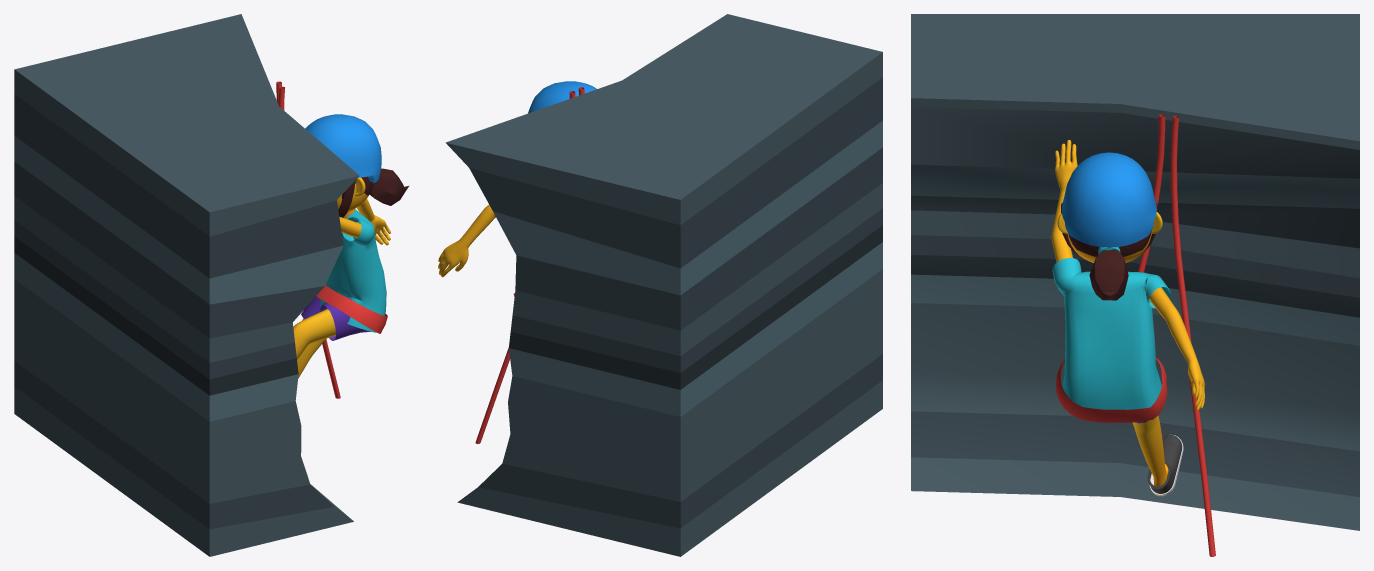
The model's file is woman_climbing.fbx.
3 views of the same model, side by side, from view 1: azimuth 30°, elevation 25°; view 2: azimuth 150°, elevation 25°; view 3: azimuth 270°, elevation 25° (orthographic). The views are drawn at different scales.
Visible parts, largest first — view 1: Cube.052, Circle.053, Cube.076, Circle.059, Cube.048; view 2: Cube.052, Circle.053, Cube.076, Circle.059; view 3: Cube.052, Circle.053, Cube.076, Circle.059, Cube.048, Sphere.015, Roundcube.446.
Boxes of the visible parts, <box> form: Cube.052: <box>14,14,359,556</box>; Circle.053: <box>293,199,390,378</box>; Cube.076: <box>305,114,381,182</box>; Circle.059: <box>276,81,387,398</box>; Cube.048: <box>369,168,408,205</box>; Cube.052: <box>445,14,882,556</box>; Circle.053: <box>438,204,495,277</box>; Cube.076: <box>528,81,596,113</box>; Circle.059: <box>475,87,584,443</box>; Cube.052: <box>911,14,1359,530</box>; Circle.053: <box>1051,140,1204,496</box>; Cube.076: <box>1061,152,1156,247</box>; Circle.059: <box>1056,114,1215,556</box>; Cube.048: <box>1089,249,1128,300</box>; Sphere.015: <box>1147,434,1183,496</box>; Roundcube.446: <box>1067,230,1152,262</box>.
Bounding box in the file's own units: 212 × 229 × 235.
Materials: 2 (2 with a texture image).
